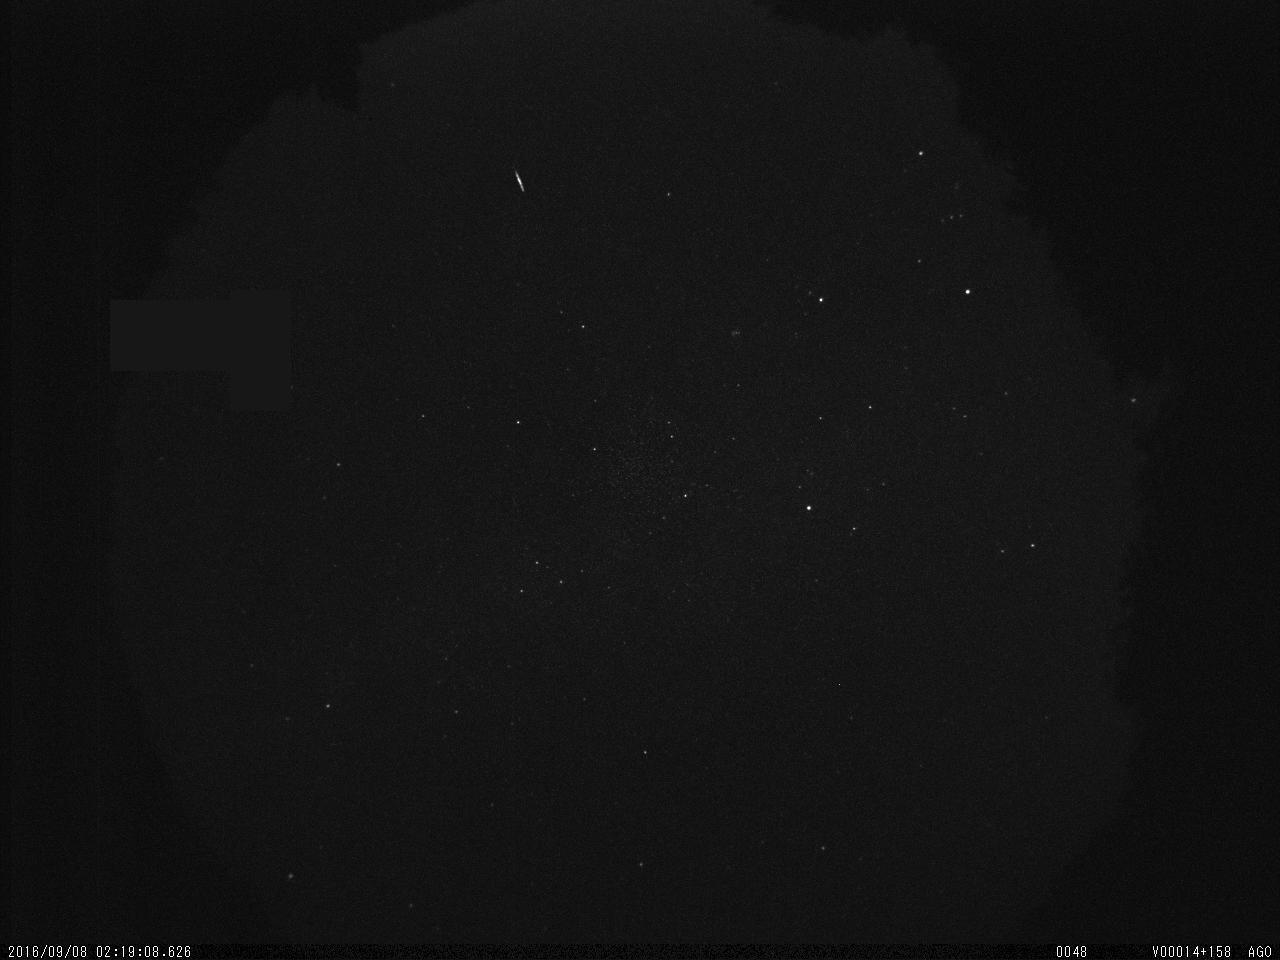Meteor: (508, 163, 532, 204)
